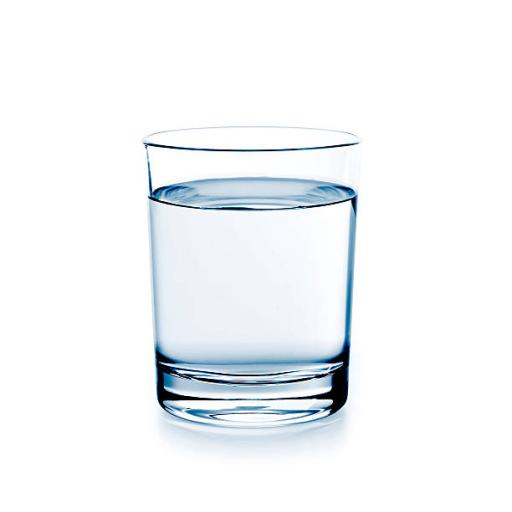cup: (143, 126, 361, 427), (148, 145, 356, 424)
